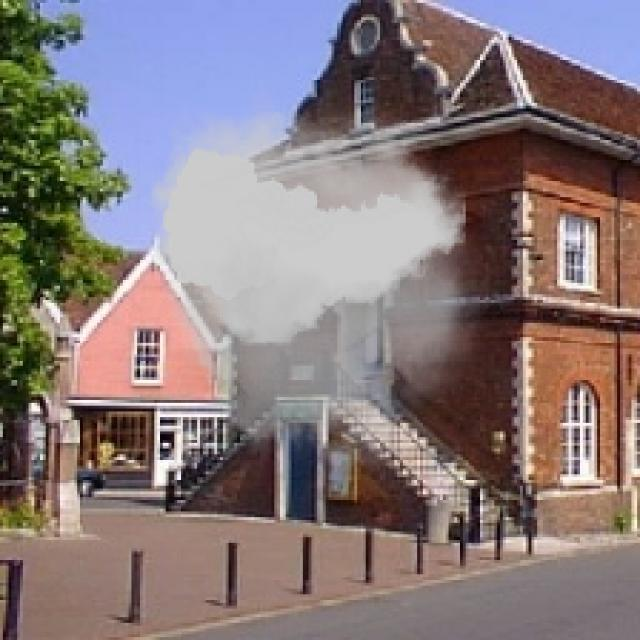smoke: (140, 80, 489, 491)
